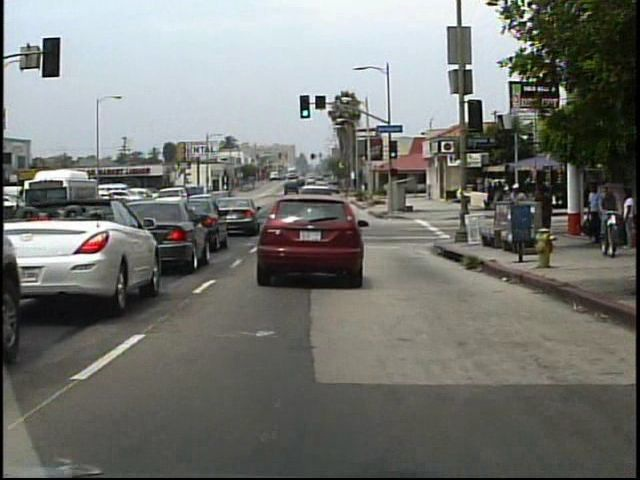person: (507, 181, 530, 239), (537, 177, 557, 243), (597, 182, 618, 241), (620, 190, 635, 247), (587, 182, 600, 238)
